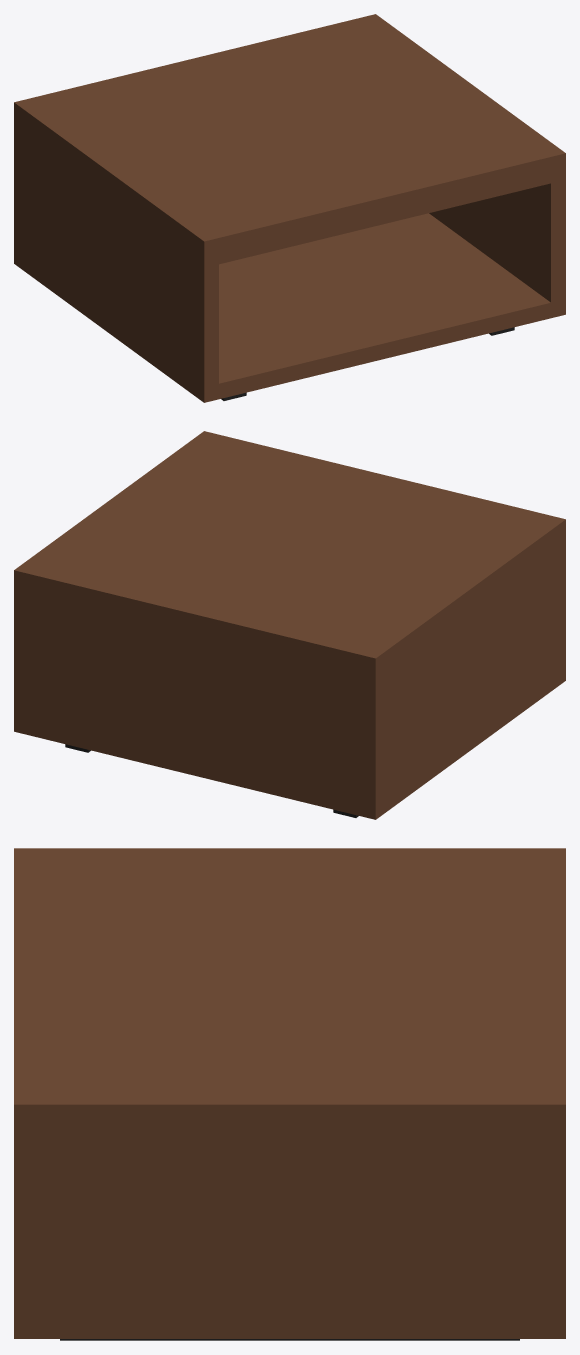
File: Drawer_Mini_2_Base.obj
3 views of the same model, one above another, from view 1: azimuth 30°, elevation 25°; view 2: azimuth 150°, elevation 25°; view 3: azimuth 270°, elevation 25° (orthographic). The views are drawn at different scales.
Parts seen in each view (by area): view 1: Drawer_Mini_2_Base; view 2: Drawer_Mini_2_Base; view 3: Drawer_Mini_2_Base.
Boxes of the visible parts, x1=… form: Drawer_Mini_2_Base: x1=14, y1=14, x2=565, y2=402; Drawer_Mini_2_Base: x1=14, y1=431, x2=565, y2=819; Drawer_Mini_2_Base: x1=14, y1=848, x2=565, y2=1340.
Bounding box in the file's own units: 0.5311 × 0.2524 × 0.4837.
